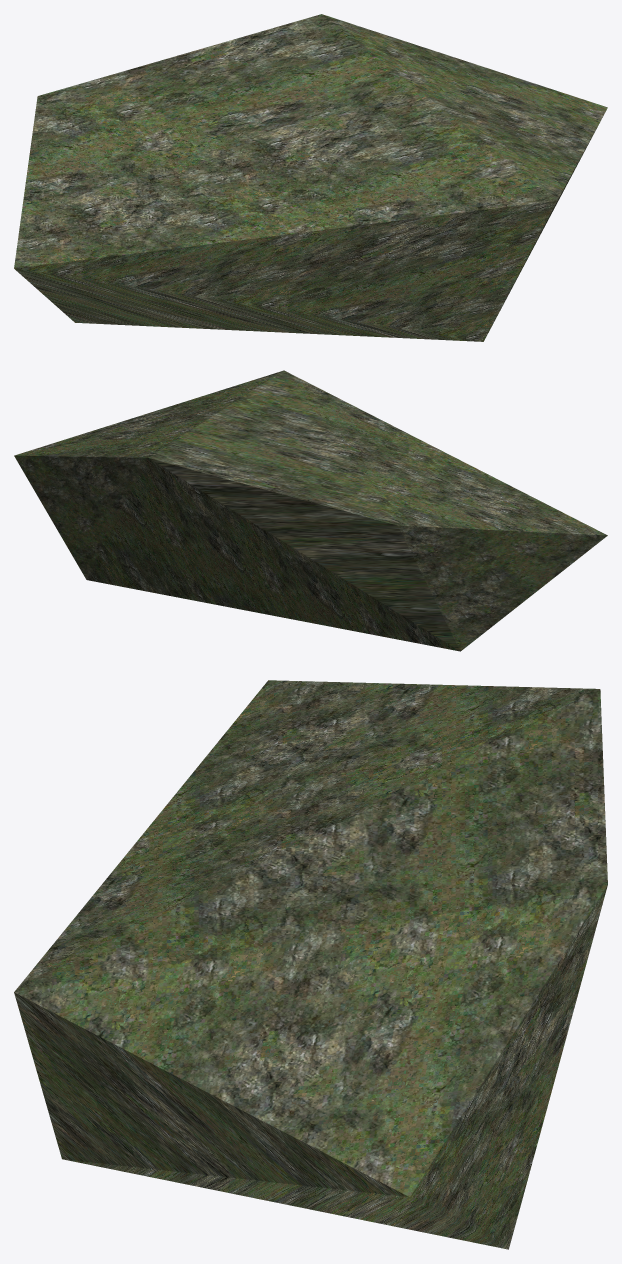
Rendered from mtns_rock_moss_a4_l3.fbx.
3 renders of one model, top to bottom at view 1: azimuth 30°, elevation 25°; view 2: azimuth 150°, elevation 25°; view 3: azimuth 270°, elevation 25°, orthographic. The views are drawn at different scales.
Visible parts, largest first — view 1: mesh_node; view 2: mesh_node; view 3: mesh_node.
Part boxes in pixels (bbox=[...]): mesh_node: bbox=[14, 14, 607, 341]; mesh_node: bbox=[14, 370, 607, 651]; mesh_node: bbox=[14, 680, 607, 1249].
Bounding box in the file's own units: 2.27 × 0.6511 × 1.21.
